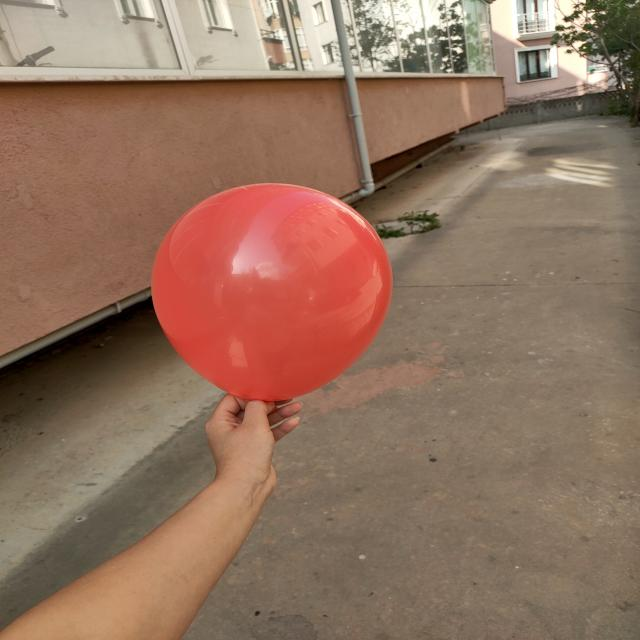red: (152, 184, 395, 407)
